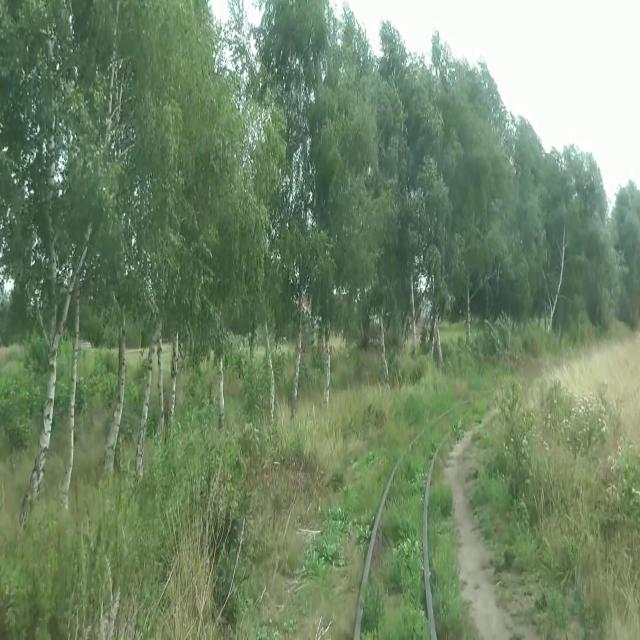rail-track: (360, 399, 479, 639)
